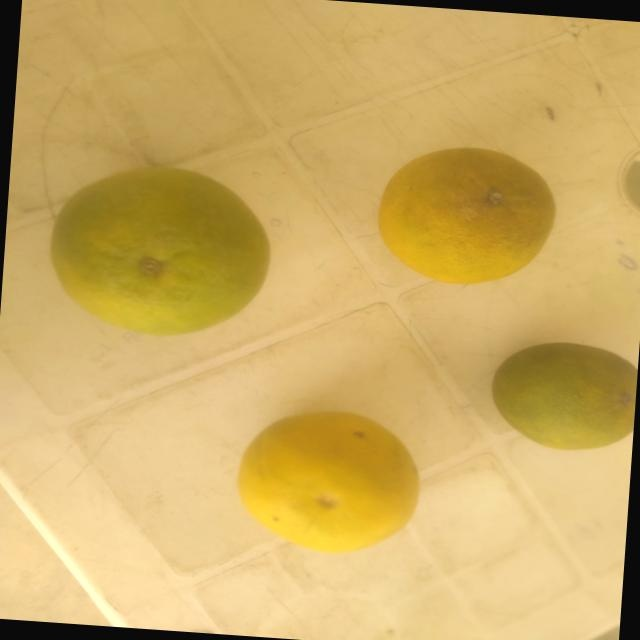agrume: (44, 142, 280, 367), (344, 120, 576, 309), (225, 392, 439, 561), (461, 324, 639, 475)
